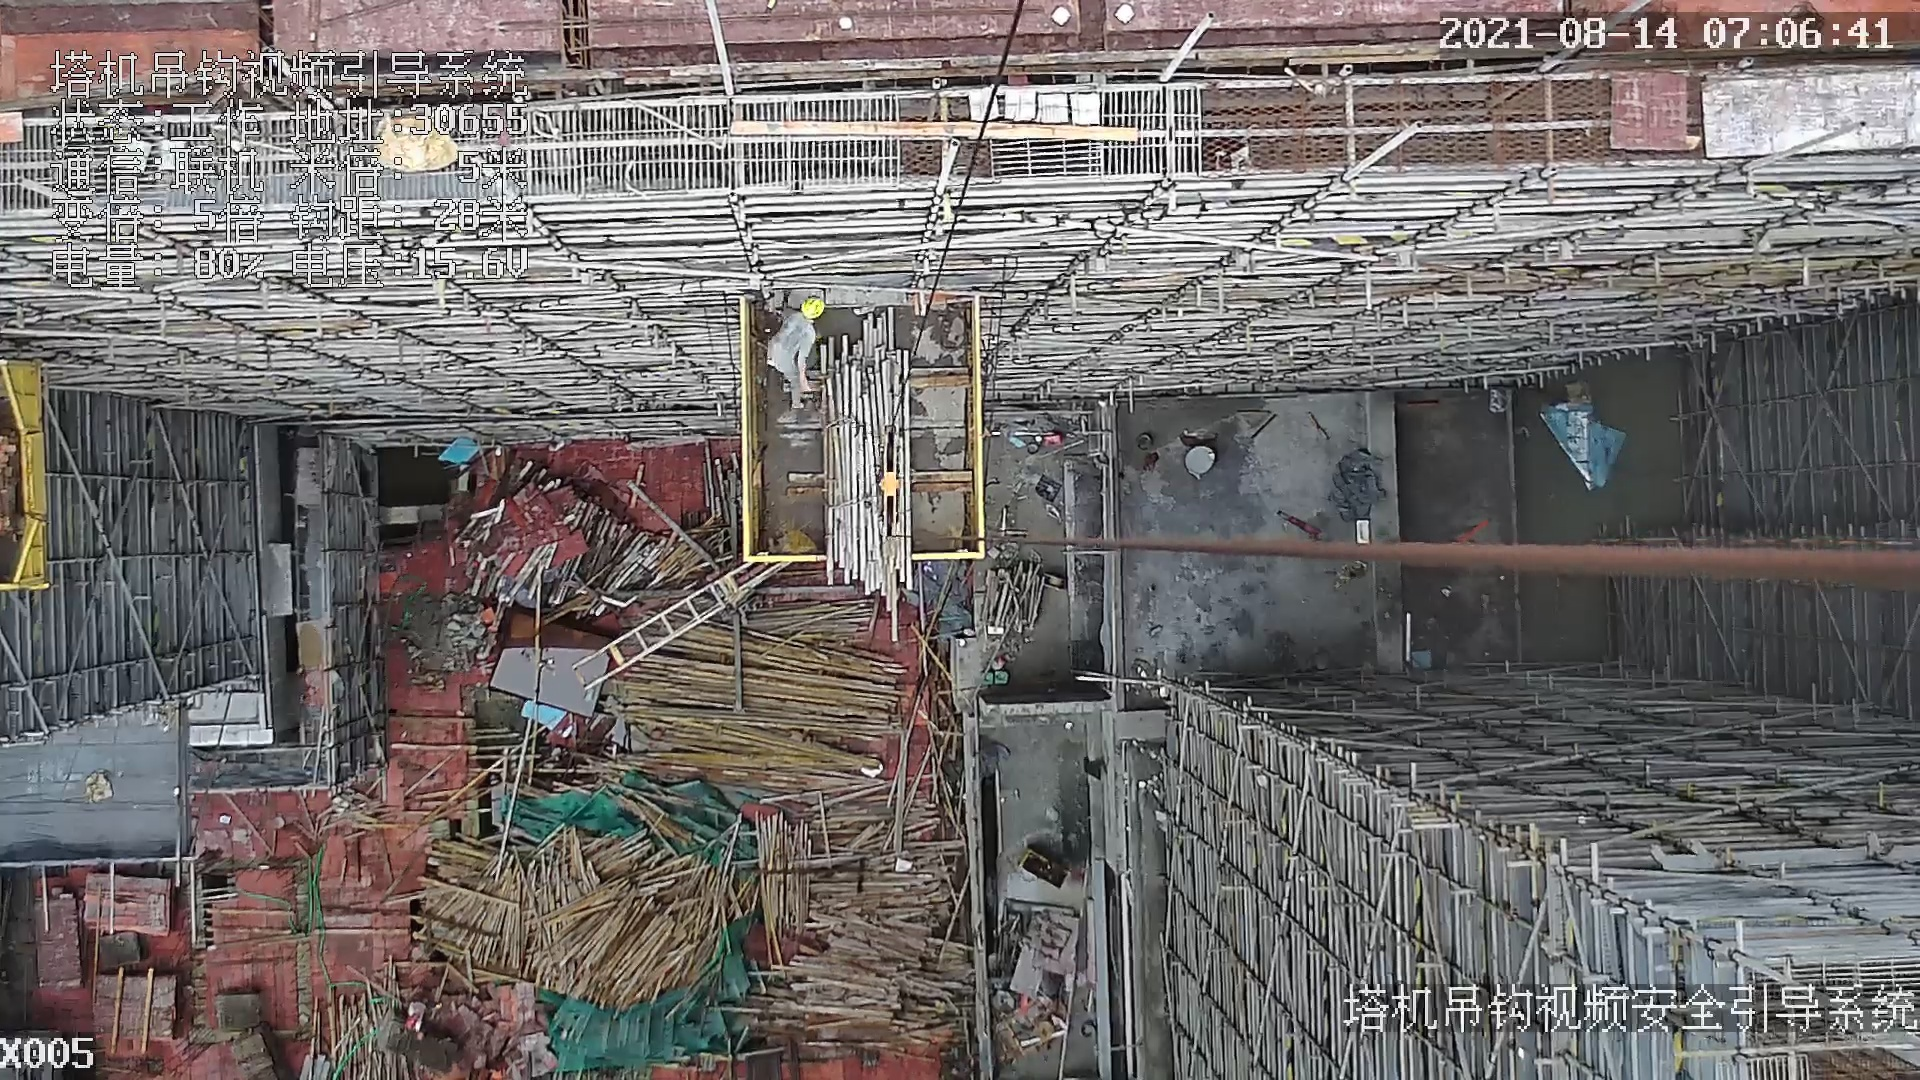helmet: (800, 294, 825, 323)
hook: (873, 426, 899, 547)
person: (769, 295, 829, 423)
